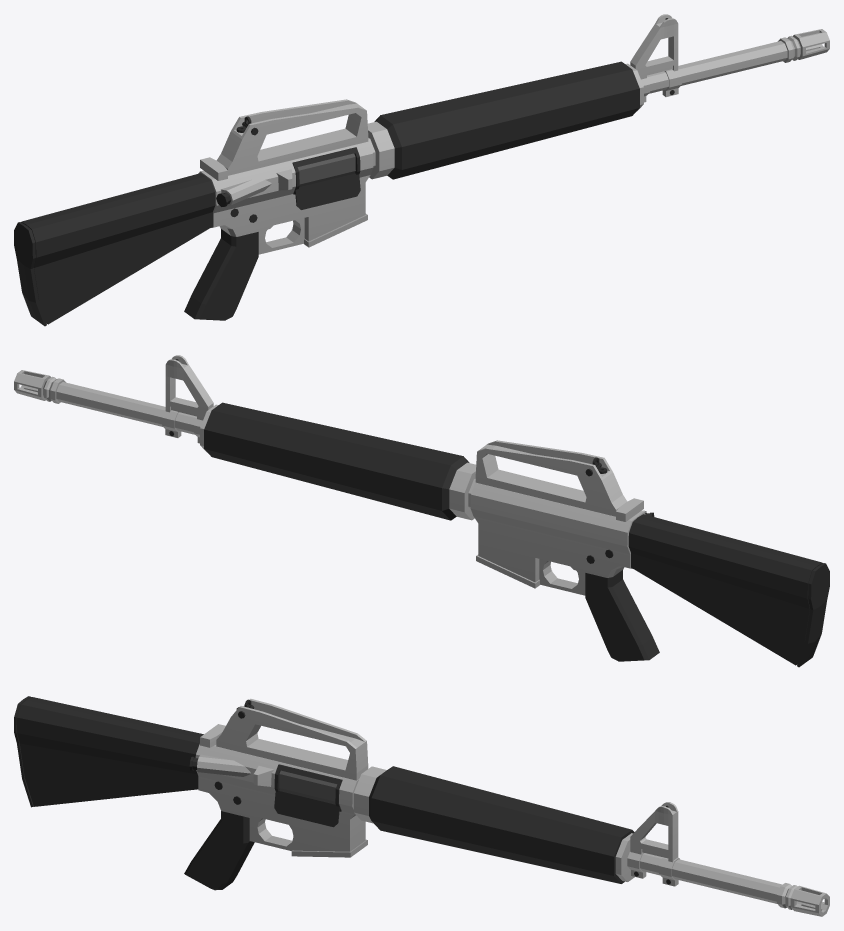
The model's file is AssaultRifle5_04.fbx.
3 renders of one model, top to bottom at view 1: azimuth 30°, elevation 25°; view 2: azimuth 150°, elevation 25°; view 3: azimuth 330°, elevation 25°, orthographic.
Parts seen in each view (by area): view 1: AssaultRifle5_04; view 2: AssaultRifle5_04; view 3: AssaultRifle5_04.
Part boxes in pixels (box(x1,y1,x2,y2)): AssaultRifle5_04: box(14, 14, 829, 326); AssaultRifle5_04: box(14, 355, 829, 667); AssaultRifle5_04: box(14, 696, 829, 916).
Size of the model in its own units: 1.04 by 0.2381 by 0.0756.
